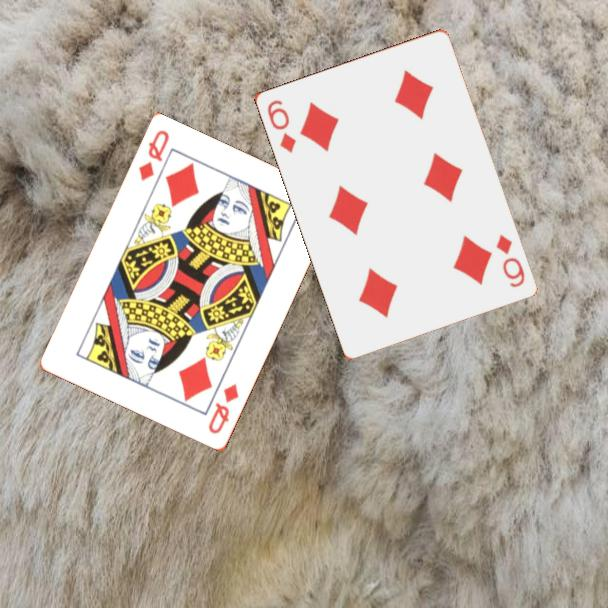d06: (263, 96, 299, 156), (492, 230, 527, 290)
d12: (205, 380, 242, 437), (135, 127, 172, 184)
